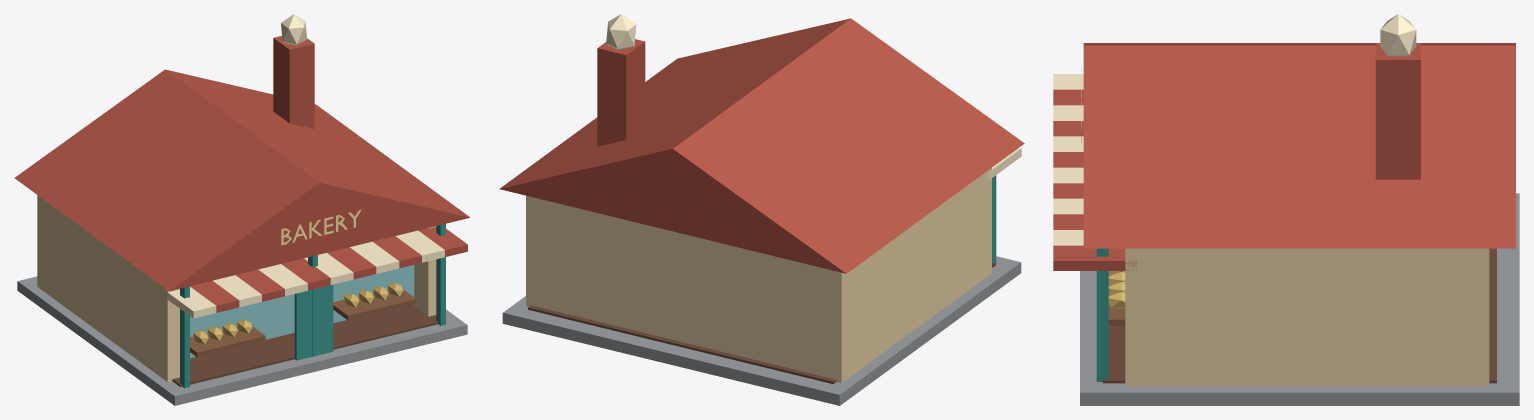
File: storefront_bakery.glb
3 renders of one model, left to right at view 1: azimuth 30°, elevation 25°; view 2: azimuth 150°, elevation 25°; view 3: azimuth 270°, elevation 25°, orthographic. The views are drawn at different scales.
Visible parts, largest first — view 1: gable_roof, side_wall, foundation, floor, window_back, chimney, door, side_wall.001, bread_shelf.001, bread_shelf, striped_awning, front_post (+16 smaller); view 2: gable_roof, rear_wall, side_wall, foundation, chimney, floor, chimney_smoke; view 3: gable_roof, side_wall.001, foundation, chimney, rear_wall, floor, striped_awning.011, front_post.002, chimney_smoke, striped_awning.001, striped_awning.006, striped_awning.008 (+8 smaller).
Part boxes in pixels (x1,y1,x2,y2): gable_roof: (14,69,469,291); side_wall: (43,201,179,381); foundation: (17,276,467,405); floor: (172,305,438,386); window_back: (190,265,414,358); chimney: (273,36,314,128); door: (294,284,333,360); side_wall.001: (413,226,436,316); bread_shelf.001: (333,289,416,320); bread_shelf: (190,325,265,357); striped_awning: (167,287,216,318); front_post: (180,286,189,388); gable_roof: (499,18,1024,273); rear_wall: (526,195,851,383); side_wall: (851,168,991,375); foundation: (502,256,1021,405); chimney: (597,39,645,146); floor: (528,262,995,384); chimney_smoke: (606,14,636,49); gable_roof: (1083,43,1515,248); side_wall.001: (1125,248,1474,386); foundation: (1080,193,1519,405); chimney: (1375,43,1420,179); rear_wall: (1466,248,1489,386); floor: (1102,248,1496,383); striped_awning.011: (1053,245,1136,270); front_post.002: (1096,248,1108,381); chimney_smoke: (1380,14,1416,56); striped_awning.001: (1053,89,1083,105); striped_awning.006: (1053,167,1083,183); striped_awning.008: (1053,198,1083,214).
Bounding box in the file's own units: 6.6 × 5.26 × 6.33.
